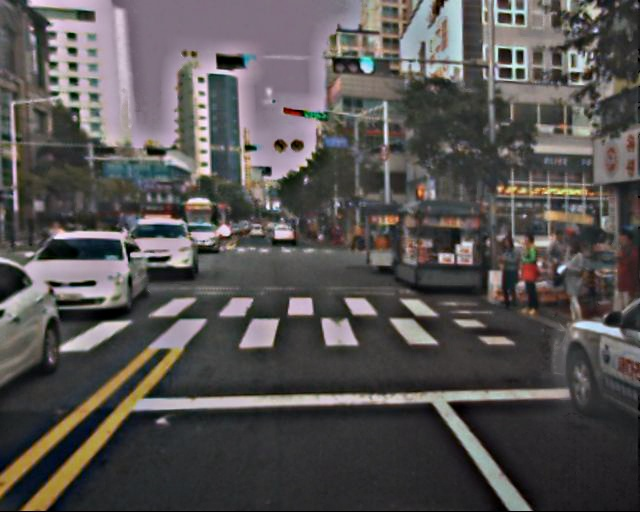person: (594, 232, 640, 361), (555, 242, 593, 325), (513, 237, 548, 319), (491, 235, 524, 312), (545, 225, 577, 297)
